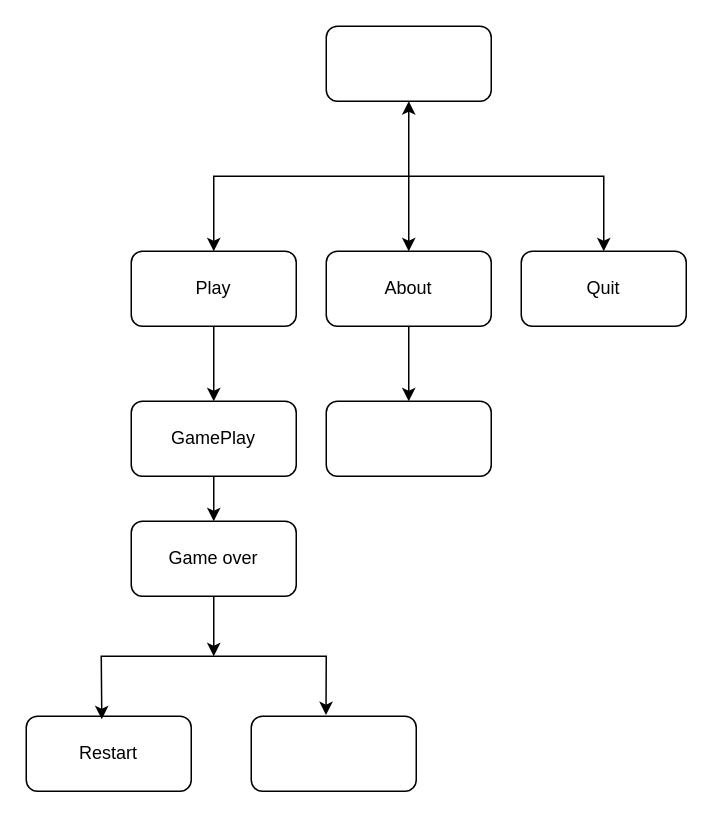
The diagram is 713 pixels wide and 818 high, and some of its shapes have lost their labels. Each missing label, with the box of its shape:
Back: (325, 400, 491, 476)
Exit: (250, 715, 416, 791)
Menu: (325, 25, 491, 101)
